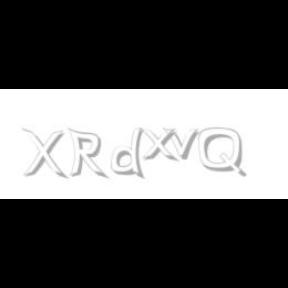Q: (199, 128, 245, 178)
R: (67, 128, 105, 180)
X: (21, 128, 65, 180)
d: (112, 128, 148, 180)
v: (163, 128, 203, 160)
x: (140, 128, 182, 162)
